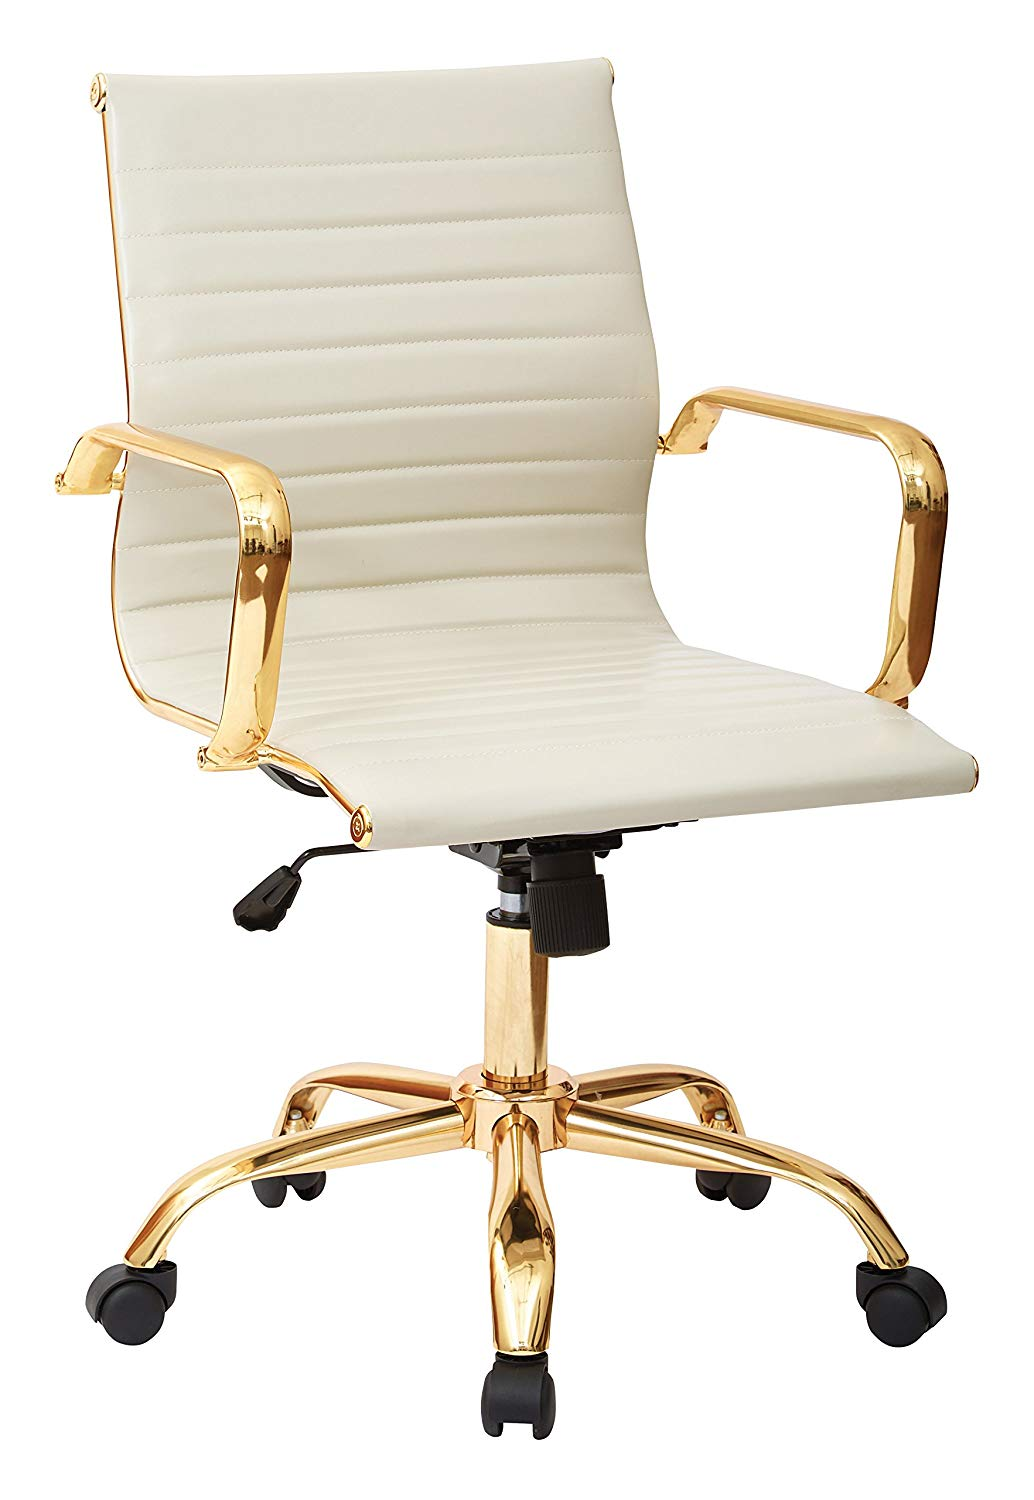chairs: (44, 52, 993, 1435)
